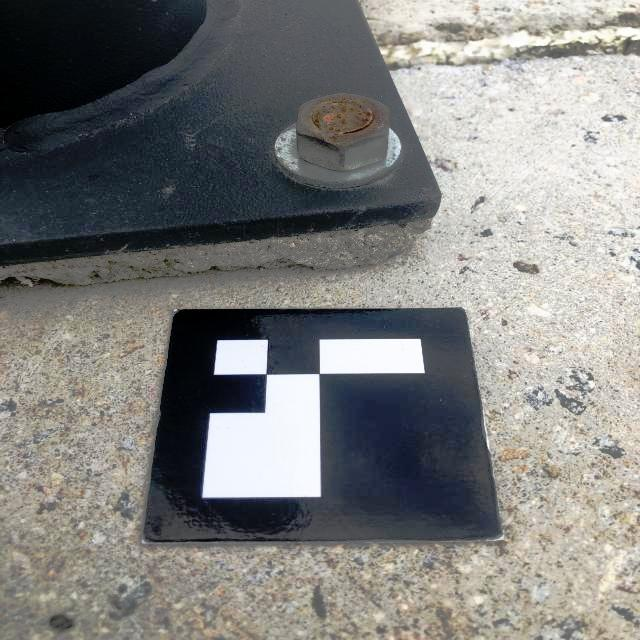Corrosion: (299, 94, 389, 146)
